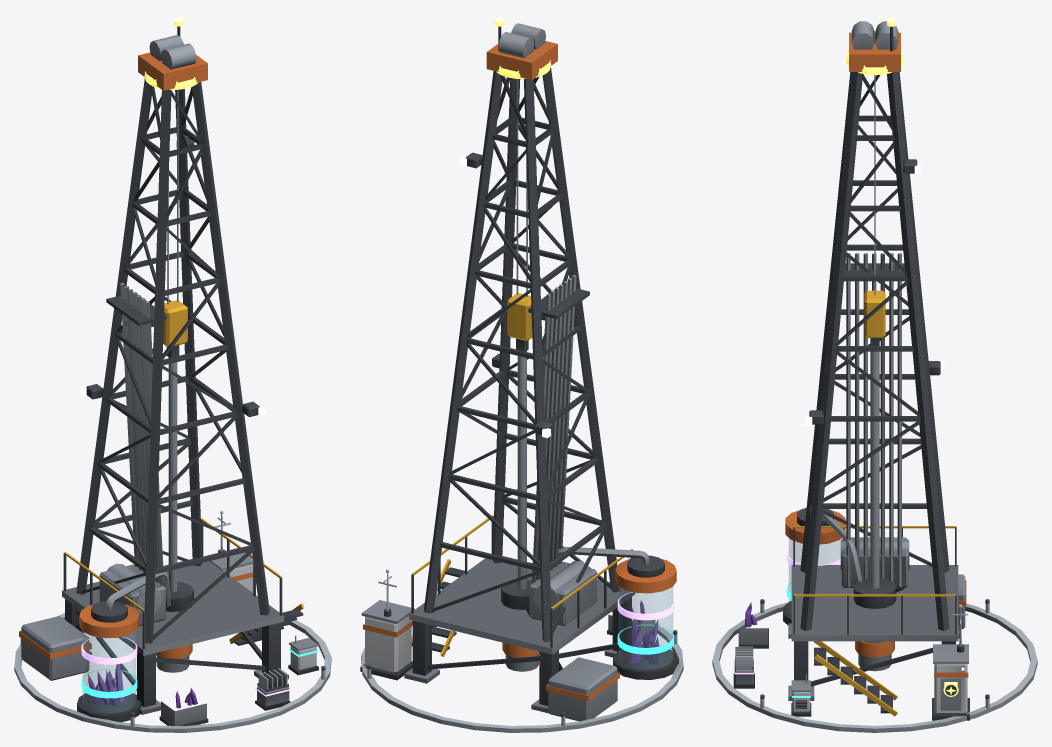
The model's file is deep_drill.glb.
3 views of the same model, side by side, from view 1: azimuth 30°, elevation 25°; view 2: azimuth 150°, elevation 25°; view 3: azimuth 270°, elevation 25° (orthographic). The views are drawn at different scales.
Parts seen in each view (by area): view 1: Base, L2, L4, L3; view 2: Base, L2, L3; view 3: Base, L2, L4, L3, L5.
Part boxes in pixels (x1,y1,x2,y2): Base: (19, 35, 304, 725); L2: (14, 510, 331, 732); L4: (81, 637, 290, 710); L3: (81, 635, 318, 698); Base: (360, 23, 678, 721); L2: (361, 569, 683, 732); L3: (617, 624, 674, 654); Base: (738, 21, 969, 720); L2: (712, 599, 1037, 732); L4: (733, 543, 840, 688); L3: (786, 582, 811, 716); L5: (845, 14, 958, 696).
Size of the model in its own units: 6.84 by 15.26 by 6.84.
